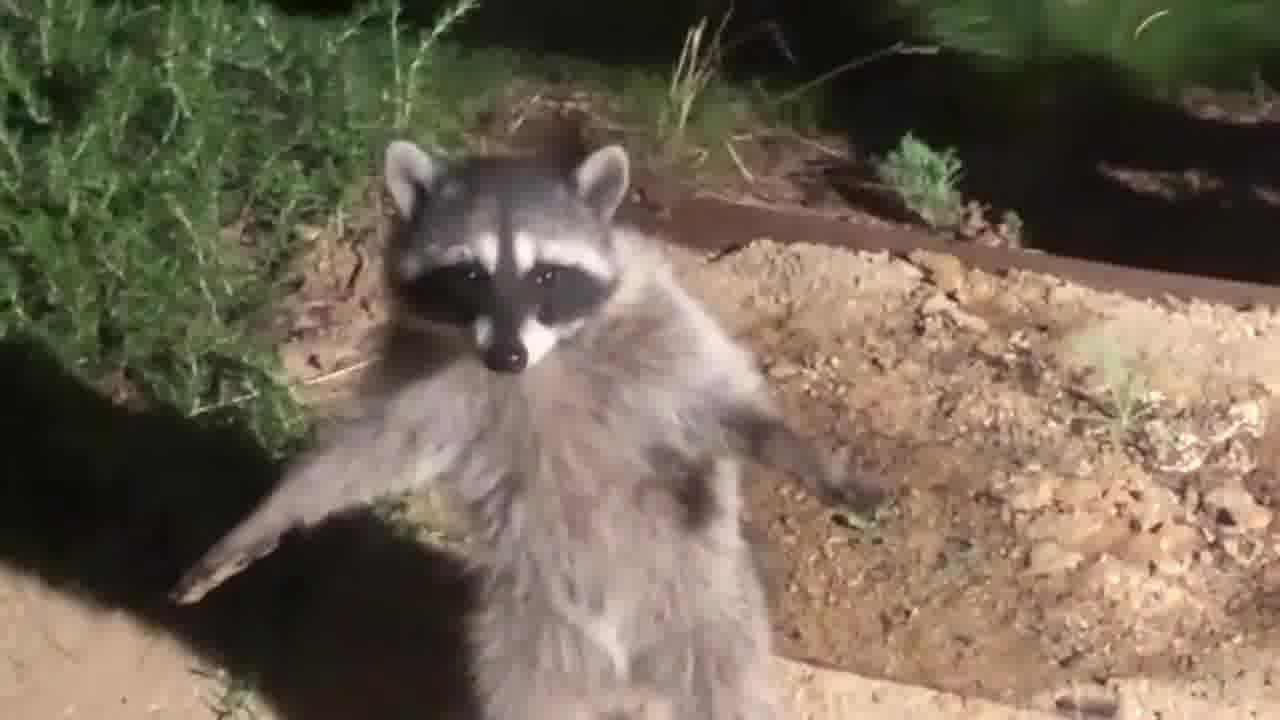raccoon: (172, 137, 885, 720)
